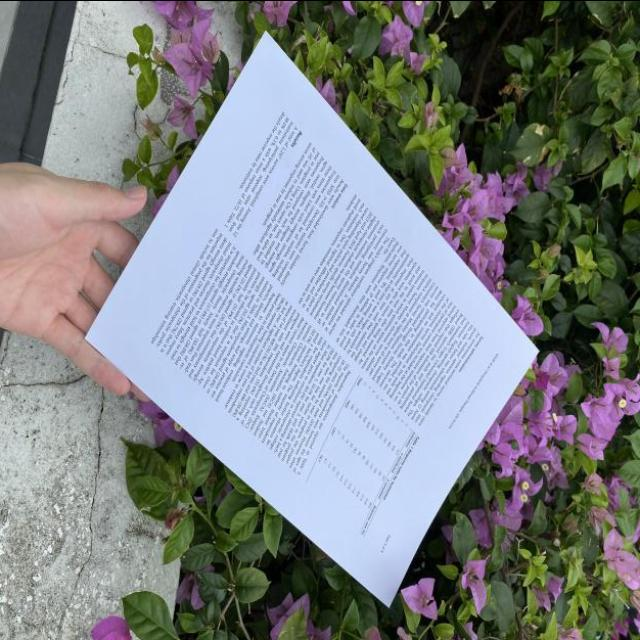kertas: (34, 31, 619, 606)
